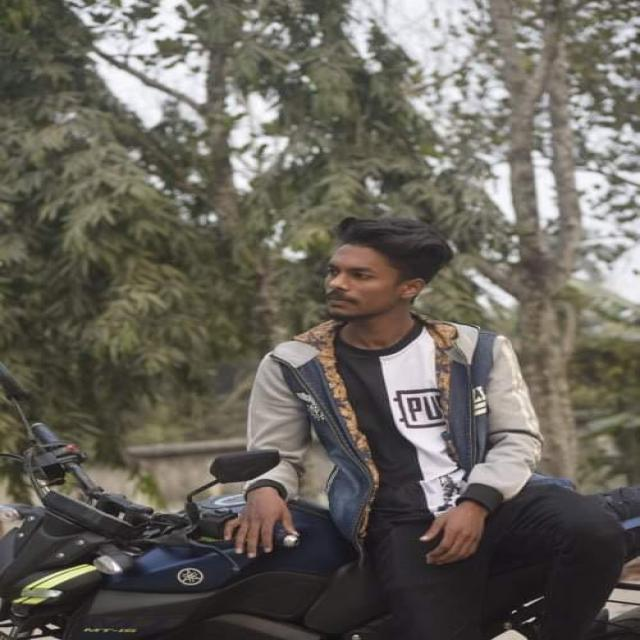Not Wearing Helmet: (315, 203, 468, 362)
